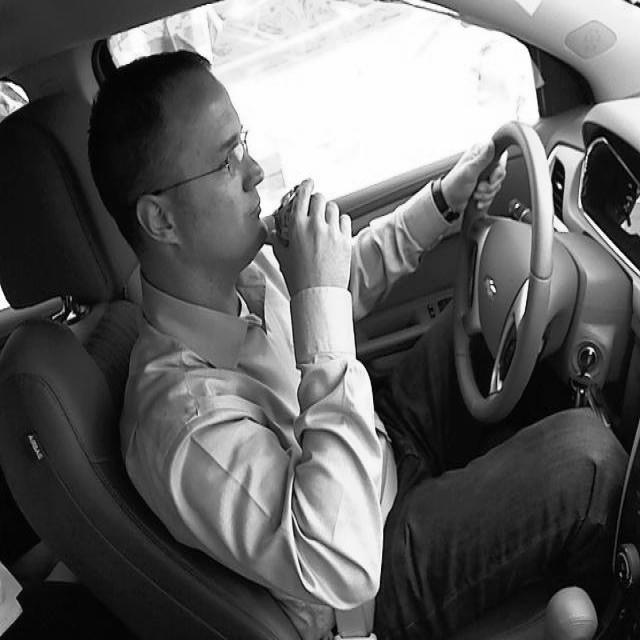Drinking: (281, 177, 350, 275)
